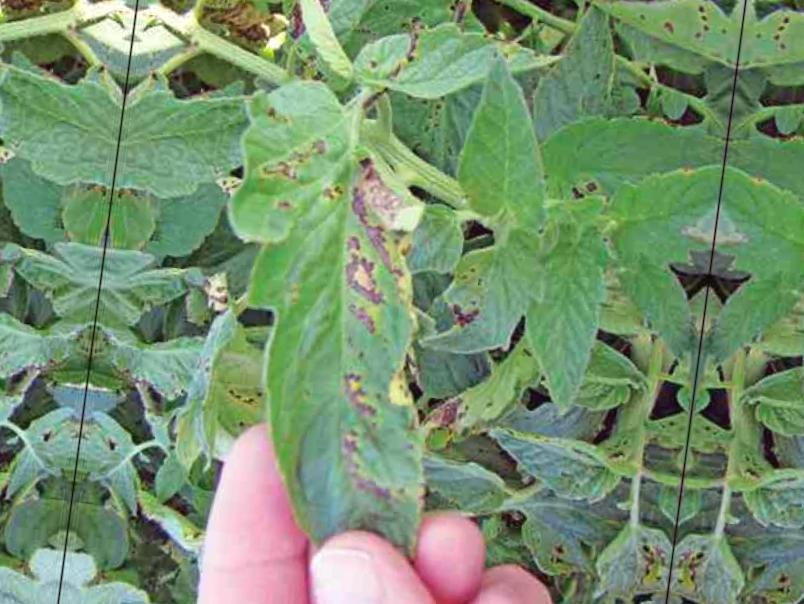Tomato Early blight leaf: (183, 50, 476, 549)
Tomato leaf: (453, 38, 567, 239), (524, 243, 607, 414), (609, 243, 707, 357)
